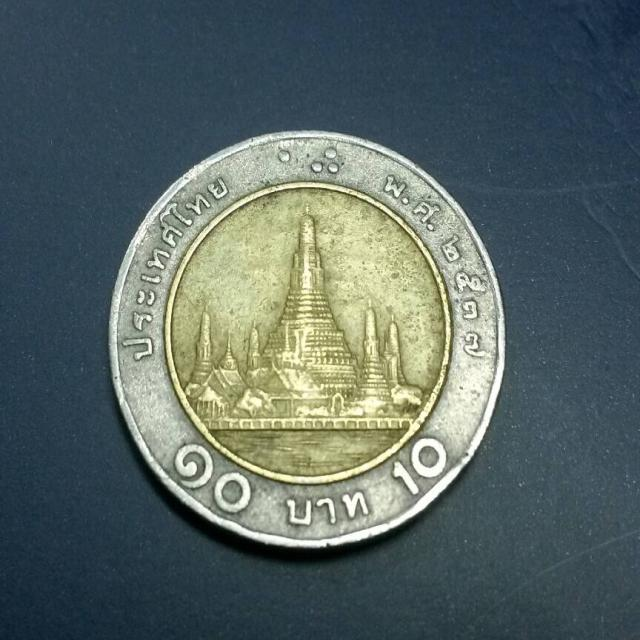10 Bath: (106, 128, 509, 556)
